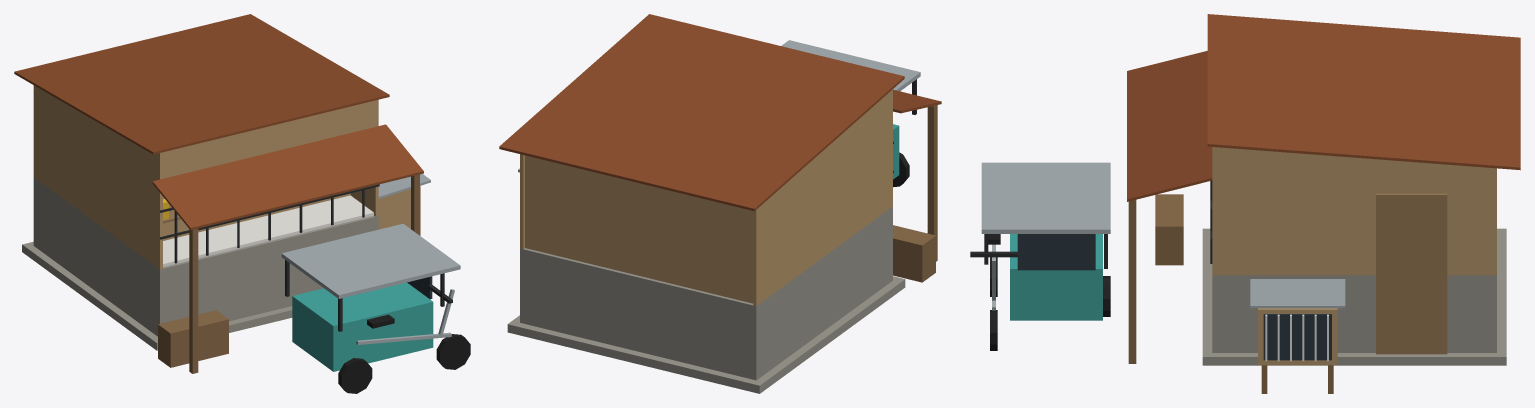
File: BAY_I_SariSari_G.glb
3 views of the same model, side by side, from view 1: azimuth 30°, elevation 25°; view 2: azimuth 150°, elevation 25°; view 3: azimuth 270°, elevation 25° (orthographic). The views are drawn at different scales.
Parts seen in each view (by area): view 1: BAY_I_SariSari_G; view 2: BAY_I_SariSari_G; view 3: BAY_I_SariSari_G.
Part boxes in pixels (left/top/right/bottom): BAY_I_SariSari_G: left=14, top=14, right=470, bottom=393; BAY_I_SariSari_G: left=499, top=14, right=941, bottom=393; BAY_I_SariSari_G: left=970, top=14, right=1520, bottom=393.
Bounding box in the file's own units: 4.15 × 2.58 × 5.8.
Materials: 1 (1 with a texture image).
